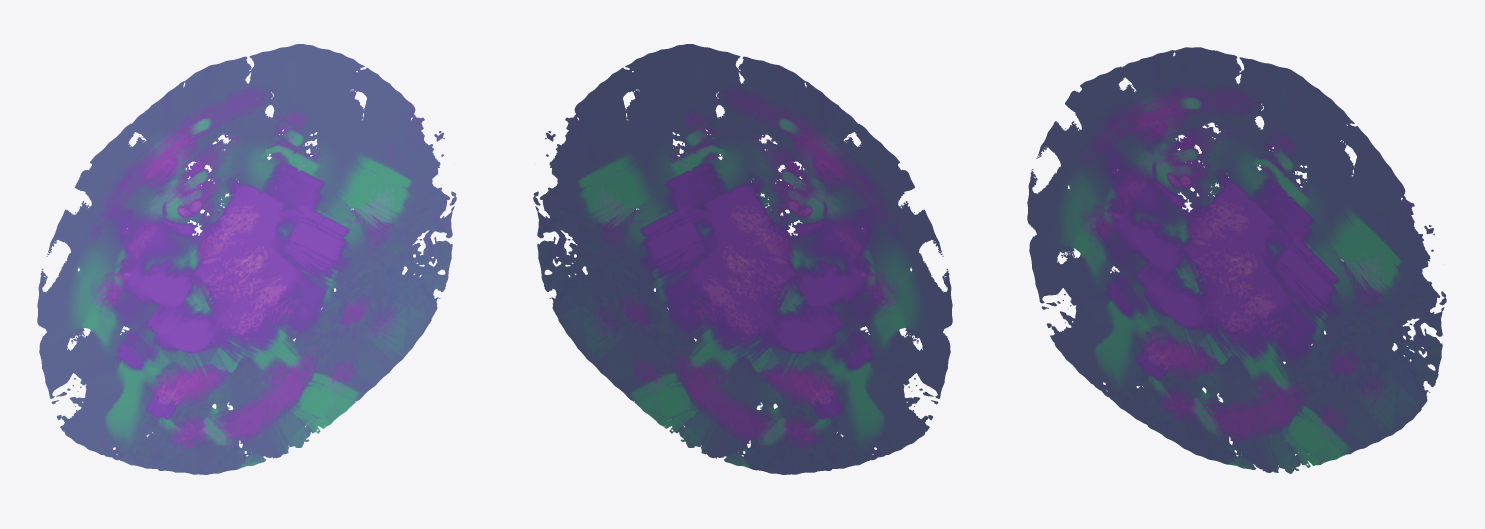
File: ms_purpleteleportmiddle_static.fbx
3 renders of one model, left to right at view 1: azimuth 30°, elevation 25°; view 2: azimuth 150°, elevation 25°; view 3: azimuth 330°, elevation 25°, orthographic.
Visible parts, largest first — view 1: pCylinder1; view 2: pCylinder1; view 3: pCylinder1.
Part boxes in pixels (box(x1,y1,x2,y2)): pCylinder1: box(37, 44, 456, 474); pCylinder1: box(533, 44, 952, 474); pCylinder1: box(1027, 47, 1446, 473).
Bounding box in the file's own units: 84.78 × 82.66 × 0.092.
